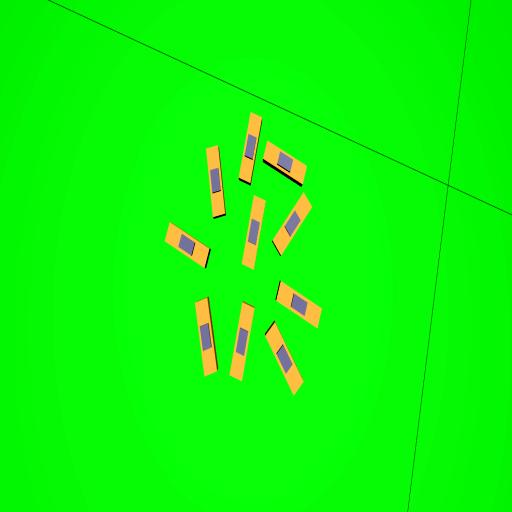objects: (260, 321, 308, 396), (267, 190, 315, 256), (270, 281, 328, 328), (159, 223, 216, 269), (258, 140, 313, 185), (228, 302, 255, 382), (237, 111, 263, 184), (241, 194, 266, 269), (194, 298, 217, 377), (204, 145, 225, 218)
